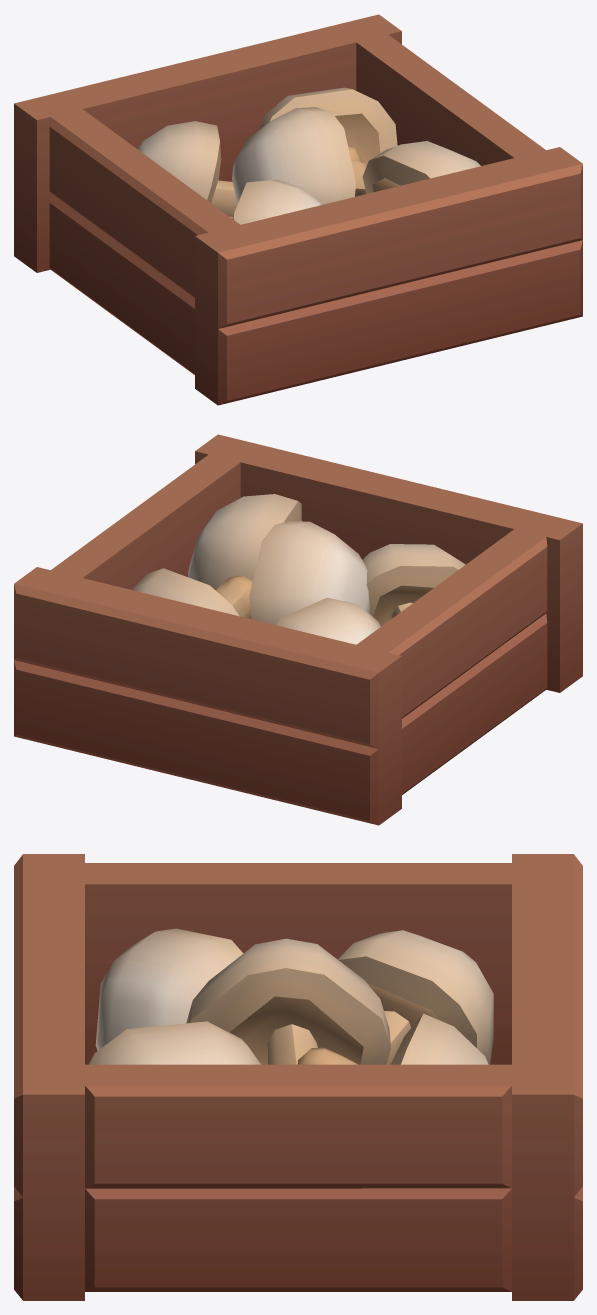
The model's file is mus_couter.glb.
3 renders of one model, top to bottom at view 1: azimuth 30°, elevation 25°; view 2: azimuth 150°, elevation 25°; view 3: azimuth 270°, elevation 25°, orthographic. The views are drawn at different scales.
Parts seen in each view (by area): view 1: crate_mushrooms; view 2: crate_mushrooms; view 3: crate_mushrooms.
Part boxes in pixels (x1=…): crate_mushrooms: x1=14, y1=14, x2=582, y2=405; crate_mushrooms: x1=14, y1=434, x2=582, y2=825; crate_mushrooms: x1=14, y1=854, x2=582, y2=1300.
Size of the model in its own units: 2 by 0.9179 by 2.
Materials: 1 (1 with a texture image).
